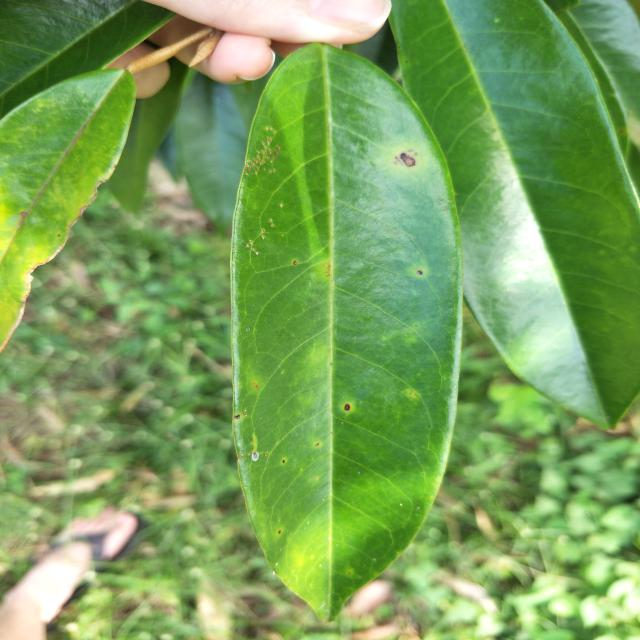Leaf Spot: (237, 411, 352, 494), (272, 244, 324, 278), (330, 397, 366, 423), (391, 149, 423, 173), (398, 258, 428, 278)
